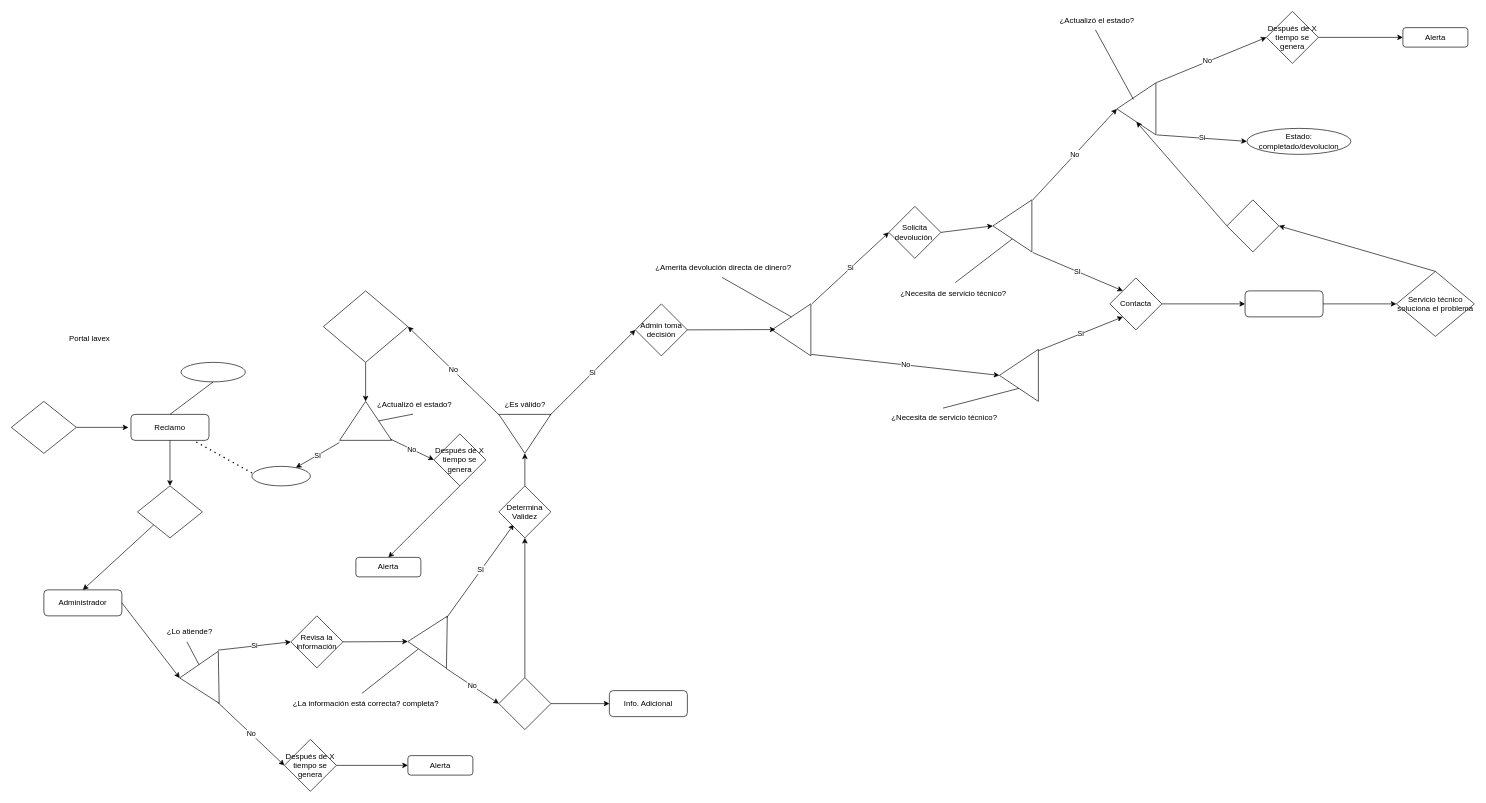
Image size: 1486x803. Some labels were removed from this diagram. The shapes that lost their labels are listed below. From the top down, each one's centre as x and y in pixels, then its label:
the point at 1252,225: Informa a admin
the point at 1283,303: Servicio Técnico
the point at 365,326: Informa al cliente y termina la atención
the point at 212,372: Estado: pendiente
the point at 43,427: Se hace un Reclamo
the point at 280,476: Estado: inválido
the point at 169,511: es atendido por
the point at 524,703: Solicita y agrega más info
